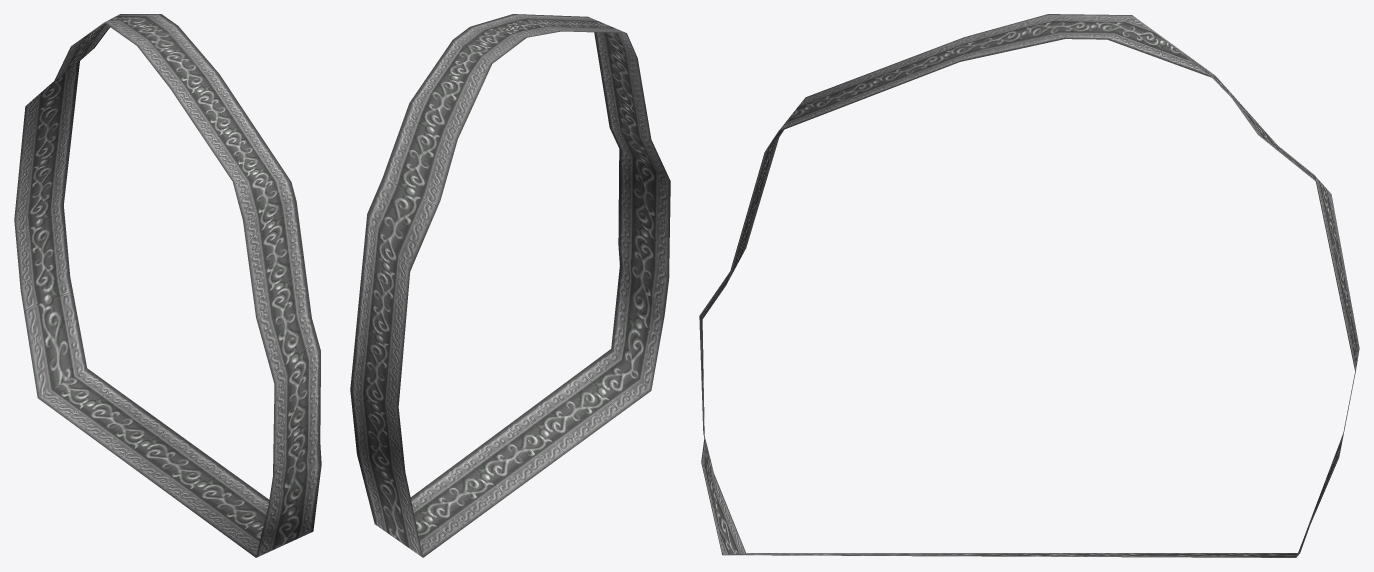
Rendered from EKH_BARRELROOM_PS_JA1_OBJECT09.obj.
The picture shows the model from 3 angles, left to right: view 1: azimuth 30°, elevation 25°; view 2: azimuth 150°, elevation 25°; view 3: azimuth 270°, elevation 25°; orthographic projection. The views are drawn at different scales.
Visible parts, largest first — view 1: JA1_Object09; view 2: JA1_Object09; view 3: JA1_Object09.
Part boxes in pixels (x1=…): JA1_Object09: x1=14, y1=14, x2=321, y2=557; JA1_Object09: x1=350, y1=14, x2=670, y2=557; JA1_Object09: x1=699, y1=14, x2=1359, y2=557.
Bounding box in the file's own units: 35.41 × 302 × 333.
